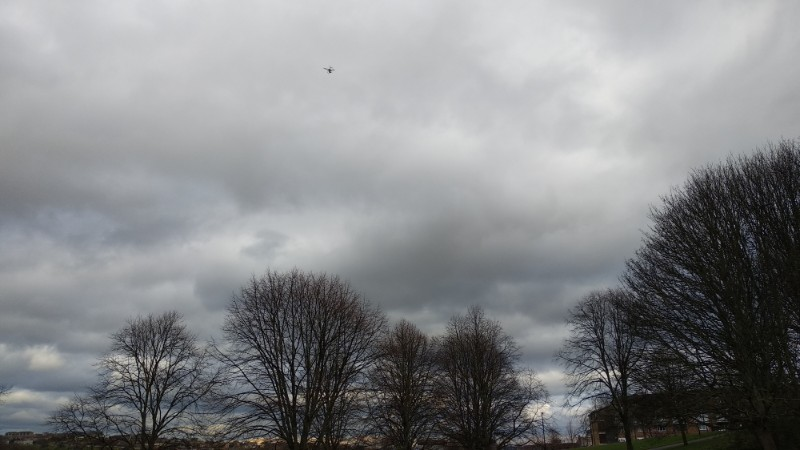drone: (324, 65, 335, 74)
